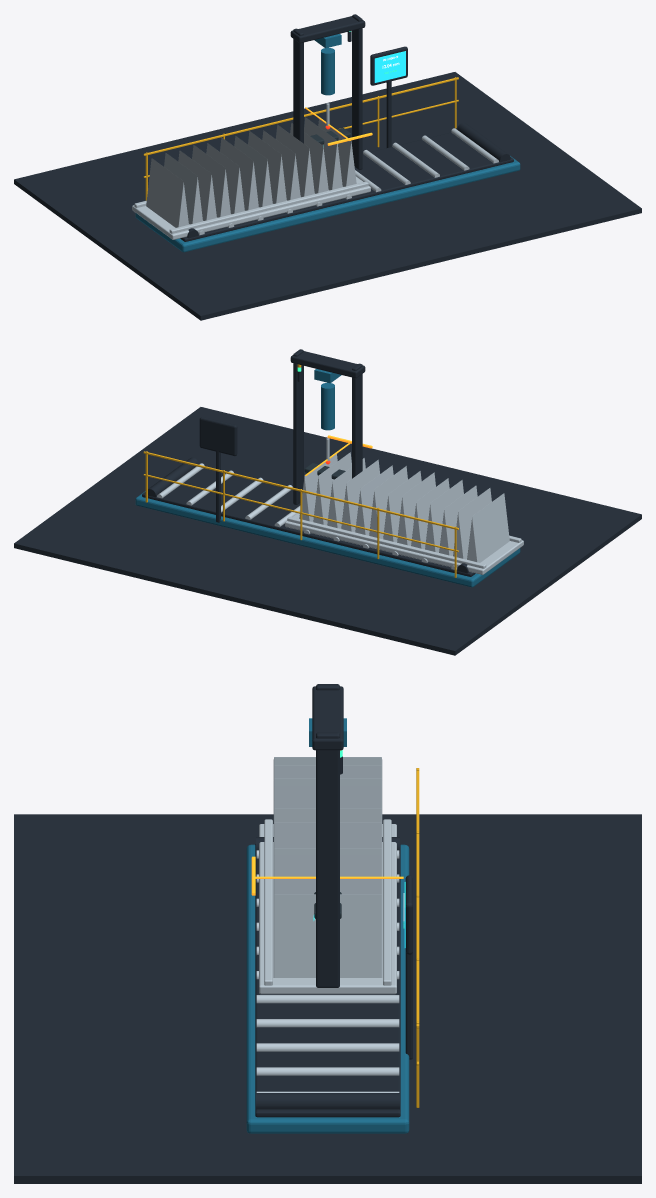
Rendered from laser_triangulation_station.glb.
3 renders of one model, top to bottom at view 1: azimuth 30°, elevation 25°; view 2: azimuth 150°, elevation 25°; view 3: azimuth 270°, elevation 25°, orthographic. The views are drawn at different scales.
Parts seen in each view (by area): view 1: Factory floor, Moving belt, Conveyor chassis, Triangular fin 01, Radiator pallet, Fixed C-frame post.001, Front header, Fixed C-frame post, Triangular fin 06, Triangular fin 04, Triangular fin 10, Triangular fin 08 (+14 smaller); view 2: Factory floor, Moving belt, Conveyor chassis, Triangular fin 01, Radiator pallet, Fixed C-frame post.001, HMI housing, Fixed C-frame post, Rear header, Triangular fin 06, Triangular fin 10, Triangular fin 04 (+14 smaller); view 3: Factory floor, Moving belt, Conveyor chassis, Triangular fin 13, Fixed C-frame post.001, Radiator pallet, End roller.001, Fixed measurement crossbeam, Front header, Rear header, Triangular fin 08, Triangular fin 12 (+12 smaller).
Boxes of the visible parts, left/top/right/bottom form: Factory floor: left=14, top=72, right=641, bottom=320; Moving belt: left=180, top=132, right=513, bottom=241; Conveyor chassis: left=135, top=156, right=520, bottom=252; Triangular fin 01: left=146, top=158, right=188, bottom=227; Radiator pallet: left=132, top=176, right=370, bottom=239; Fixed C-frame post.001: left=352, top=14, right=362, bottom=169; Front header: left=169, top=181, right=368, bottom=233; Fixed C-frame post: left=293, top=28, right=303, bottom=143; Triangular fin 06: left=220, top=137, right=258, bottom=210; Triangular fin 04: left=192, top=145, right=230, bottom=217; Triangular fin 10: left=276, top=124, right=314, bottom=197; Triangular fin 08: left=248, top=131, right=286, bottom=203; Factory floor: left=14, top=407, right=641, bottom=655; Moving belt: left=142, top=468, right=475, bottom=576; Conveyor chassis: left=135, top=491, right=520, bottom=587; Triangular fin 01: left=467, top=493, right=509, bottom=562; Radiator pallet: left=285, top=511, right=523, bottom=574; Fixed C-frame post.001: left=293, top=349, right=303, bottom=504; HMI housing: left=199, top=417, right=237, bottom=456; Fixed C-frame post: left=352, top=363, right=362, bottom=478; Rear header: left=287, top=516, right=486, bottom=568; Triangular fin 06: left=397, top=472, right=435, bottom=545; Triangular fin 10: left=341, top=459, right=379, bottom=532; Triangular fin 04: left=425, top=480, right=463, bottom=552; Factory floor: left=14, top=814, right=641, bottom=1183; Moving belt: left=255, top=844, right=400, bottom=1117; Conveyor chassis: left=246, top=844, right=409, bottom=1133; Triangular fin 13: left=273, top=894, right=382, bottom=977; Fixed C-frame post.001: left=316, top=732, right=339, bottom=987; Radiator pallet: left=259, top=824, right=396, bottom=994; End roller.001: left=256, top=1093, right=399, bottom=1109; Fixed measurement crossbeam: left=312, top=686, right=343, bottom=750; Front header: left=264, top=819, right=272, bottom=985; Rear header: left=383, top=819, right=391, bottom=985; Triangular fin 08: left=273, top=832, right=382, bottom=849; Triangular fin 12: left=273, top=879, right=382, bottom=896.
Size of the model in its own units: 30 by 11.35 by 22.
